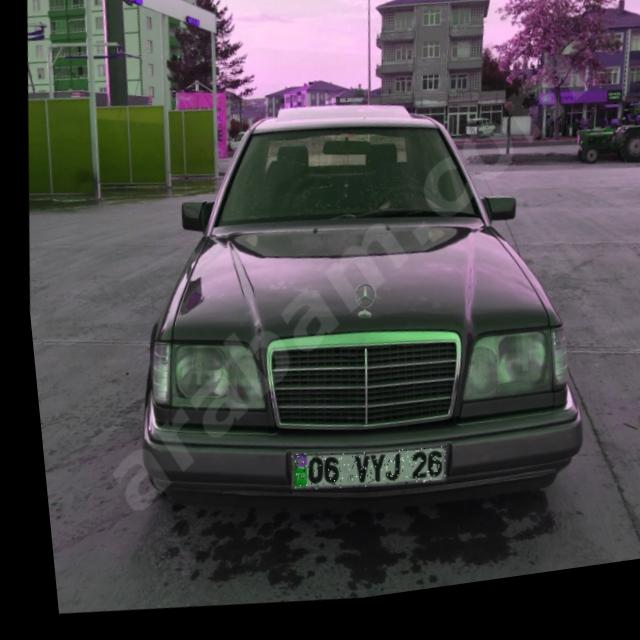license_plate: (278, 444, 437, 510)
